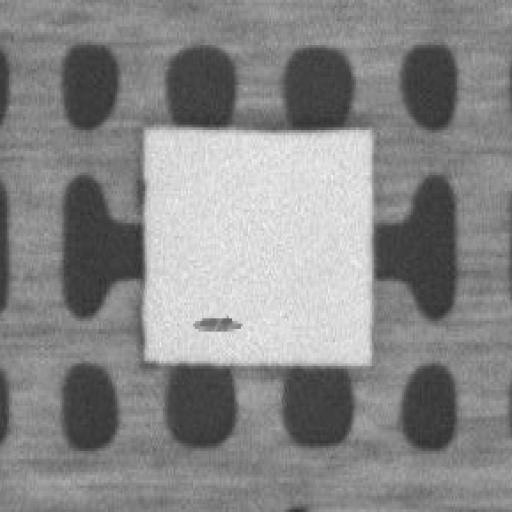DIE_INK: (188, 310, 243, 332)
